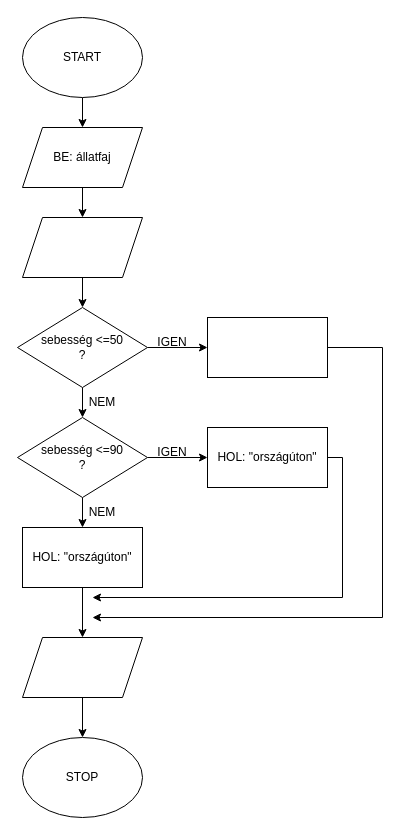
The diagram is 408 pixels wide and 835 high, and some of its shapes have lost their labels. The centre of each missing label's shape, as x and y in pixels:
BE: sebesség: the point at 82,247
HOL: "városban": the point at 267,347
KI: sebesség, hol: the point at 82,667
